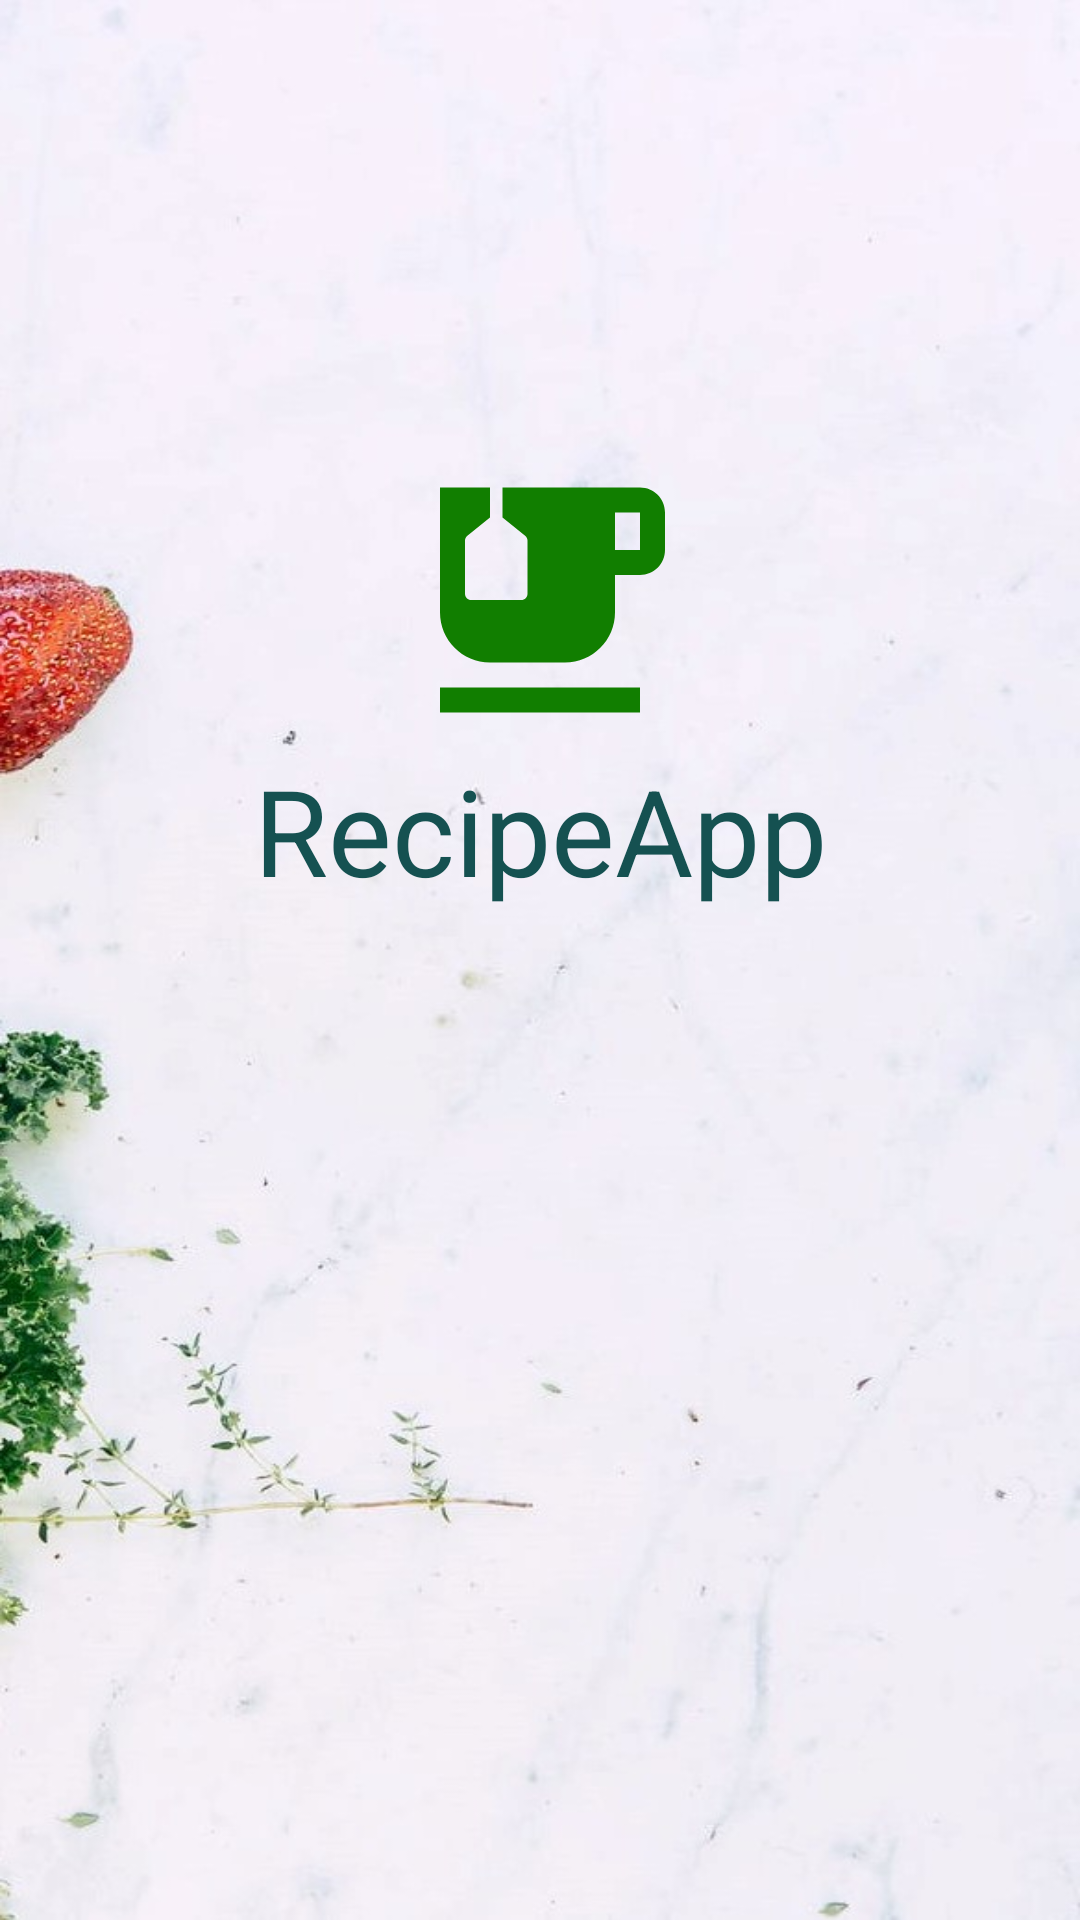

Icon click points for this 1080 x 1920 phone screenshot, format (x=x, y=y):
emoji food beverage: (x=552, y=597)
